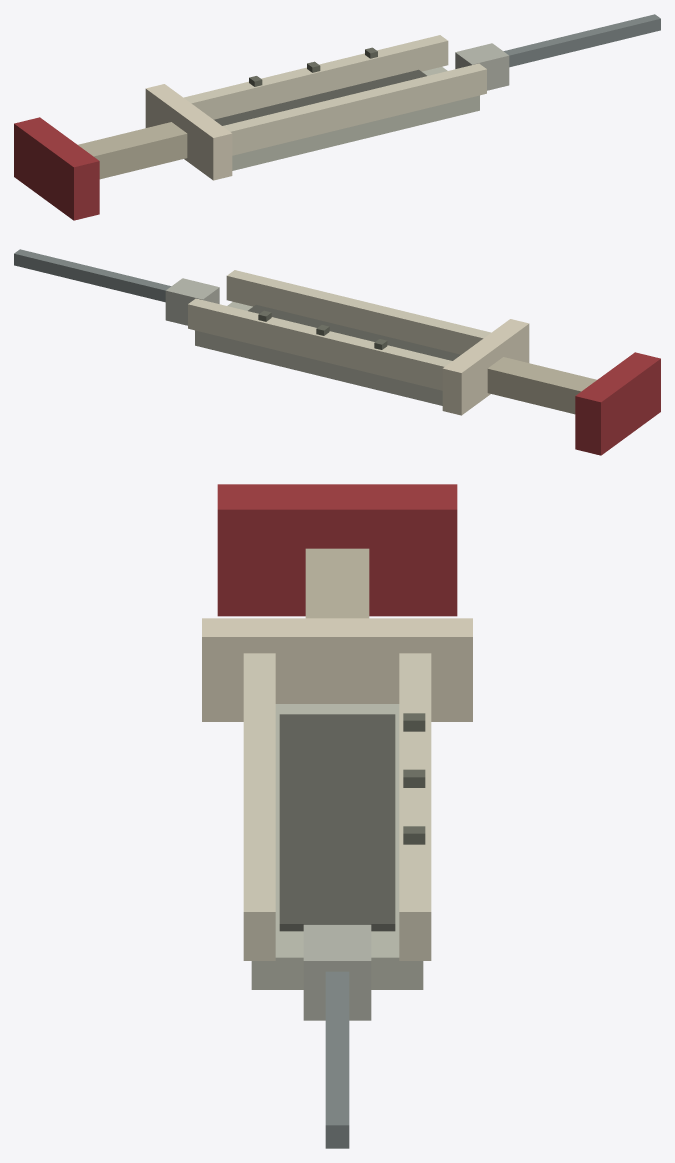
Rendered from CMU3DEmptyMedicalSyringe.glb.
3 views of the same model, one above another, from view 1: azimuth 30°, elevation 25°; view 2: azimuth 150°, elevation 25°; view 3: azimuth 270°, elevation 25° (orthographic). The views are drawn at different scales.
Parts seen in each view (by area): view 1: barrel glass rim (×2), red plunger cap, finger flange, syringe clear barrel, plunger rod, thin steel needle, hollow barrel inset, nozzle; view 2: barrel glass rim (×2), red plunger cap, finger flange, syringe clear barrel, plunger rod, thin steel needle, hollow barrel inset, nozzle; view 3: red plunger cap, hollow barrel inset, finger flange, barrel glass rim (×2), syringe clear barrel, nozzle, plunger rod, thin steel needle.
Part boxes in pixels (x1,y1,x2,y2): barrel glass rim (×2): (184, 35, 486, 155); red plunger cap: (14, 117, 99, 220); finger flange: (145, 84, 232, 180); syringe clear barrel: (232, 67, 479, 170); plunger rod: (78, 122, 187, 179); thin steel needle: (503, 14, 660, 67); hollow barrel inset: (214, 69, 426, 125); nozzle: (455, 43, 509, 90); barrel glass rim (×2): (188, 270, 490, 390); red plunger cap: (575, 352, 660, 455); finger flange: (442, 319, 529, 415); syringe clear barrel: (195, 302, 442, 405); plunger rod: (487, 357, 596, 414); thin steel needle: (14, 249, 171, 302); hollow barrel inset: (248, 304, 460, 360); nozzle: (165, 278, 219, 325); red plunger cap: (217, 484, 457, 616); hollow barrel inset: (279, 714, 395, 931); finger flange: (202, 618, 472, 721); barrel glass rim (×2): (243, 653, 431, 960); syringe clear barrel: (251, 704, 423, 989); nozzle: (303, 924, 371, 1020); plunger rod: (305, 548, 369, 618); thin steel needle: (325, 971, 349, 1148).
Size of the model in its own units: 0.711 by 0.059 by 0.136.
